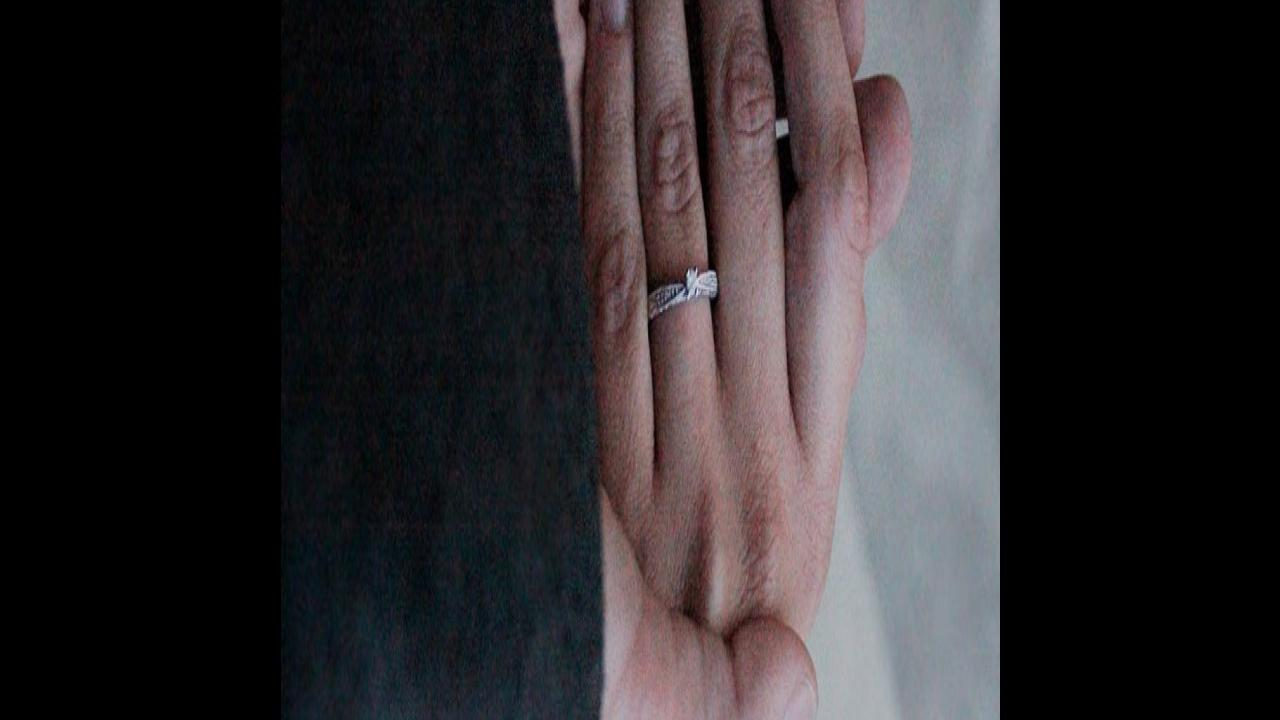ring: (644, 261, 720, 342)
